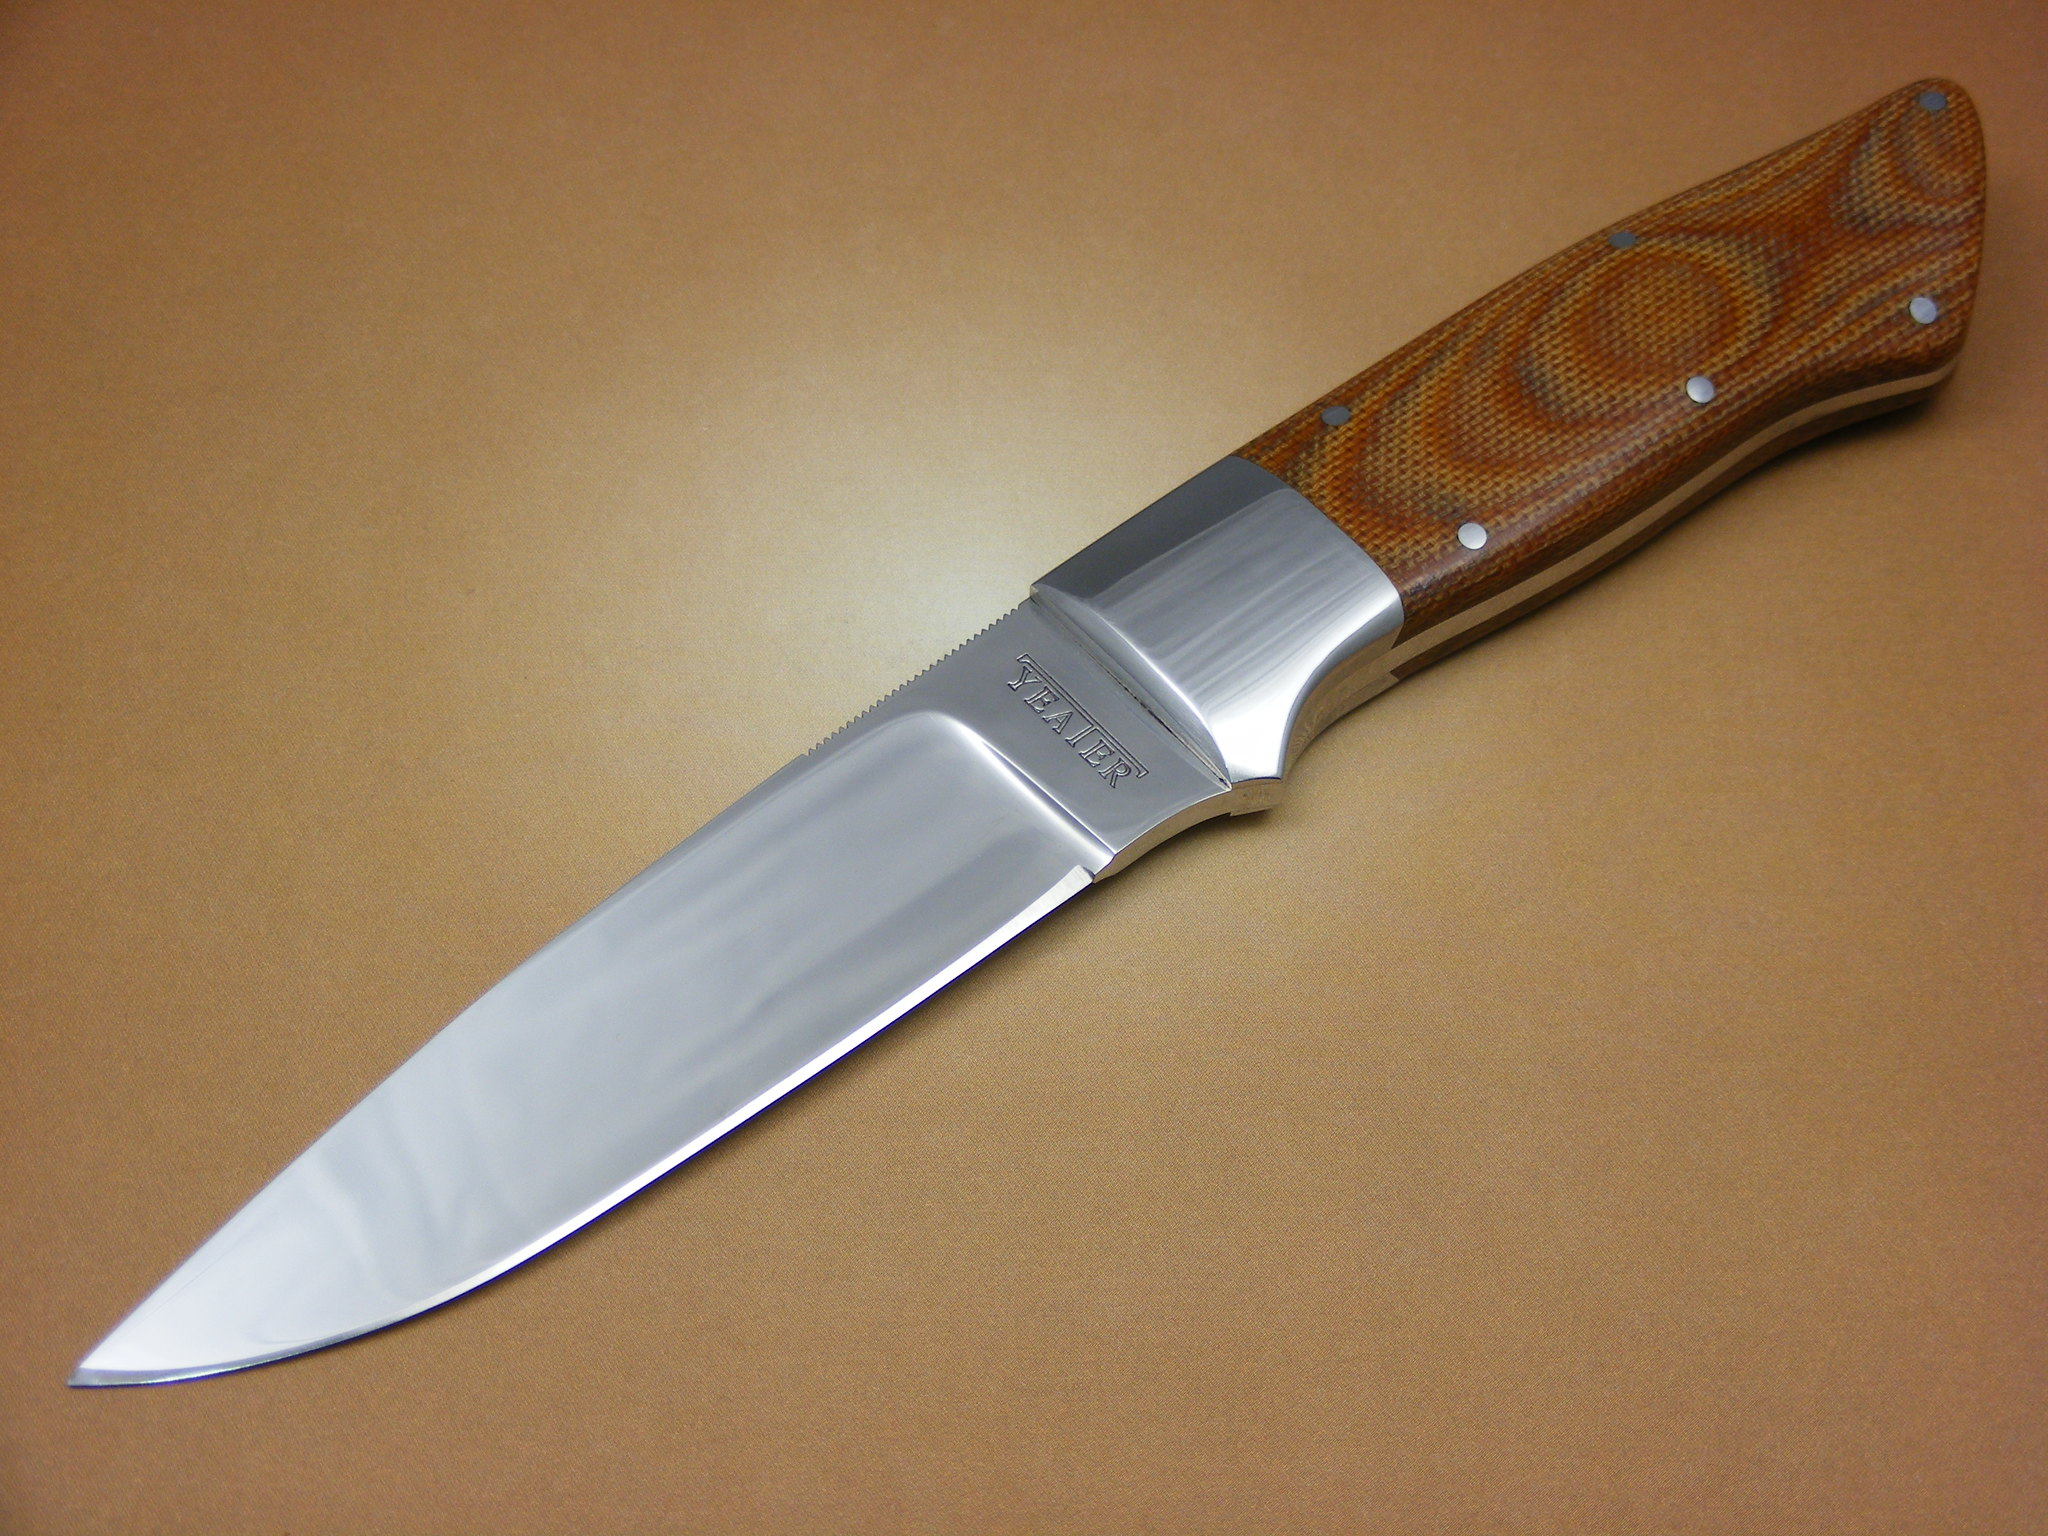knife: (61, 74, 1990, 1404)
